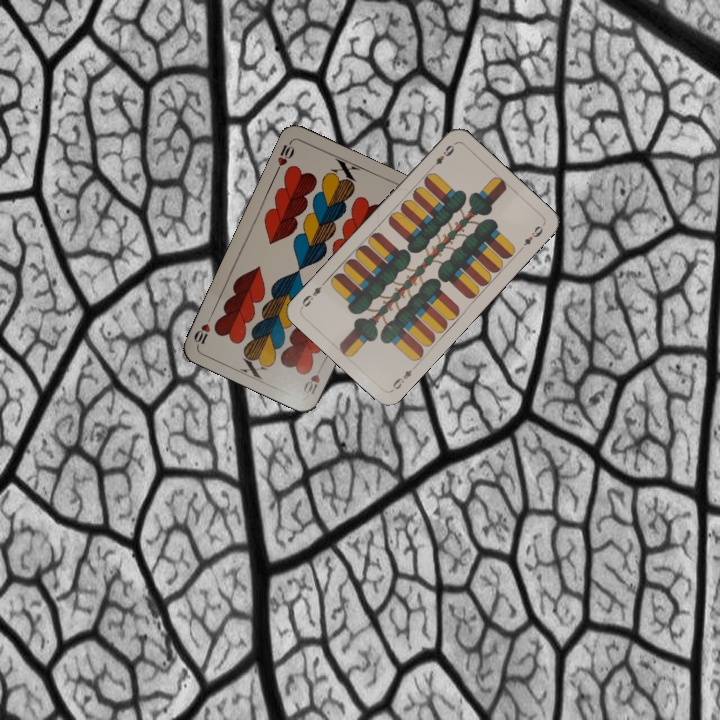E9: (426, 139, 458, 173), (387, 361, 419, 393)
H10: (299, 360, 326, 397), (272, 137, 297, 176)
